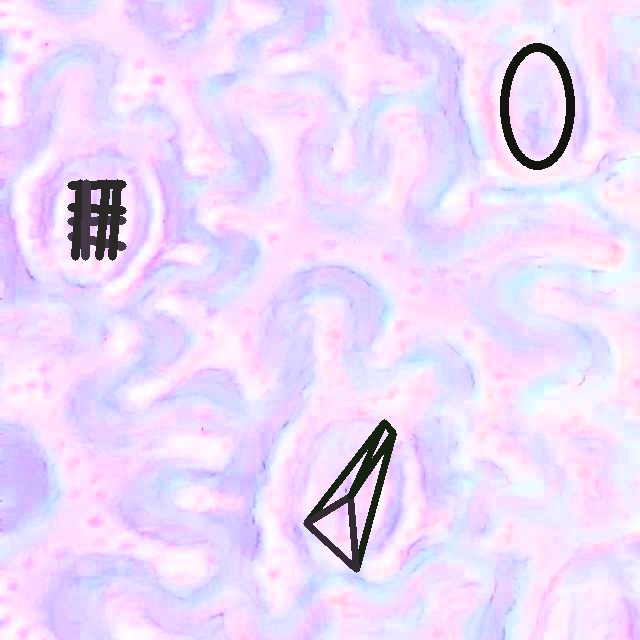close: (303, 419, 396, 572), (500, 43, 575, 170), (67, 179, 126, 260)
